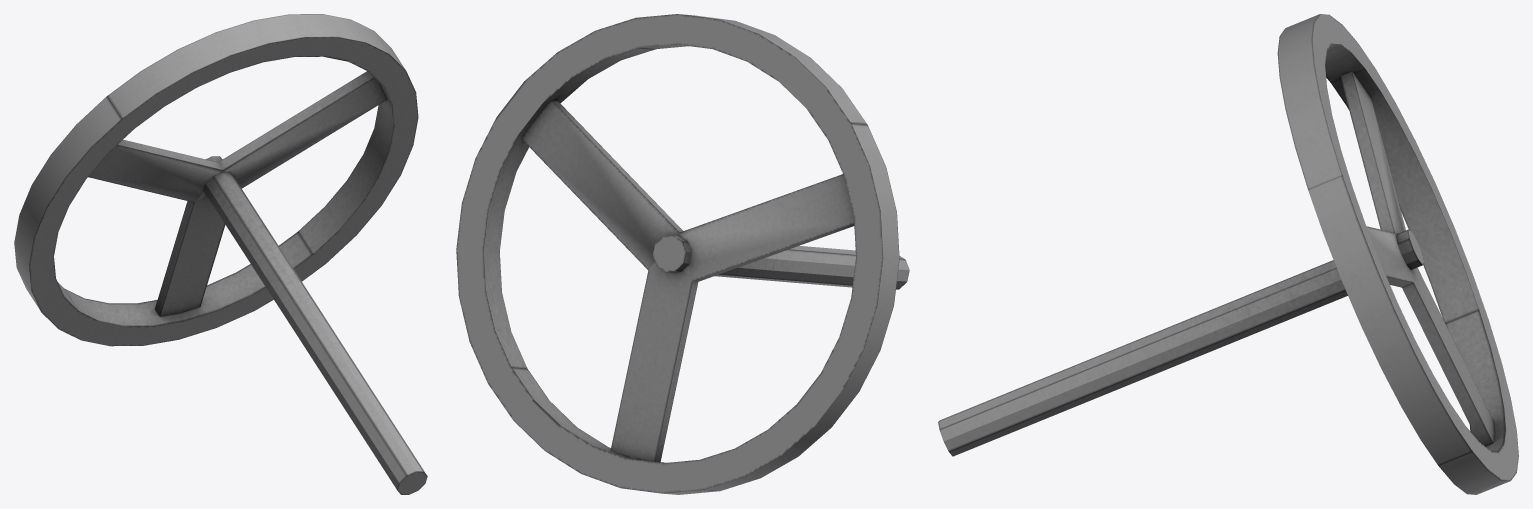
The model's file is JeepSteeringWheel.obj.
The picture shows the model from 3 angles, left to right: view 1: azimuth 30°, elevation 25°; view 2: azimuth 150°, elevation 25°; view 3: azimuth 270°, elevation 25°; orthographic projection. The views are drawn at different scales.
Parts seen in each view (by area): view 1: Steering_Wheel_Cylinder.008; view 2: Steering_Wheel_Cylinder.008; view 3: Steering_Wheel_Cylinder.008.
Part boxes in pixels (x1=…): Steering_Wheel_Cylinder.008: x1=14, y1=14, x2=427, y2=494; Steering_Wheel_Cylinder.008: x1=456, y1=14, x2=909, y2=494; Steering_Wheel_Cylinder.008: x1=938, y1=14, x2=1518, y2=494.
Bounding box in the file's own units: 0.4925 × 0.4644 × 0.567.
